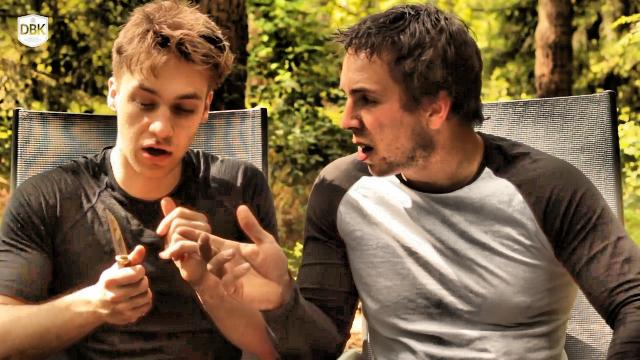knife: (84, 204, 156, 320)
